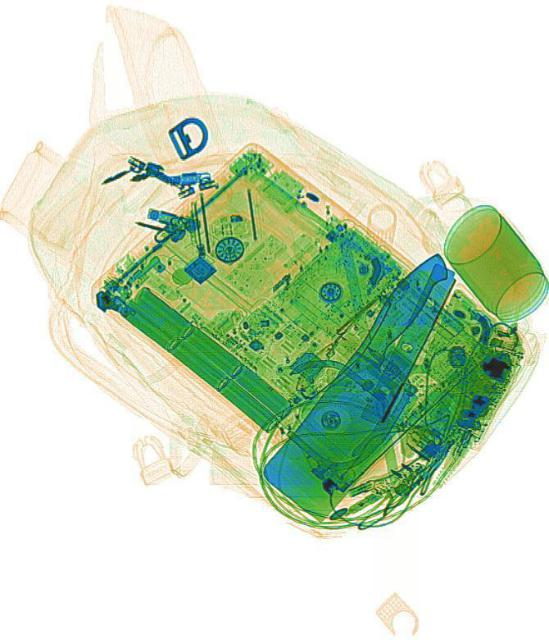Knife: (257, 242, 492, 526)
